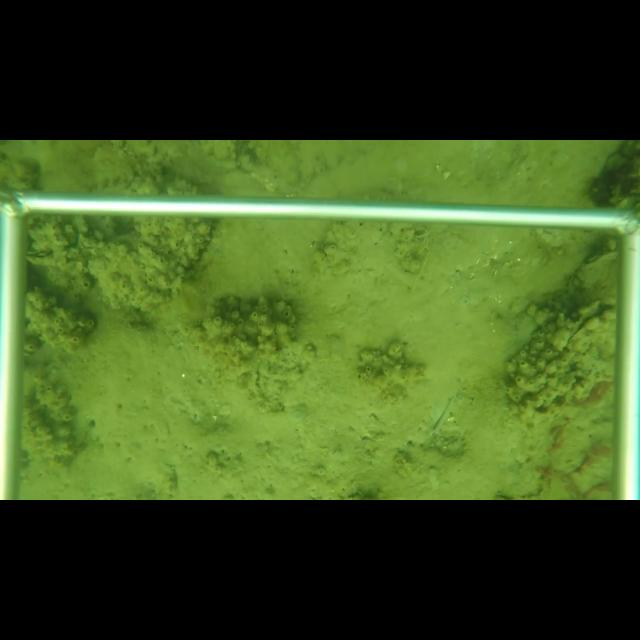Oyster-Closed: (561, 249, 619, 297)
Oyster-Open: (557, 300, 615, 352)
